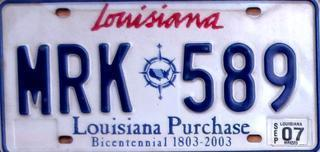placa de veiculo: (3, 2, 313, 148)
